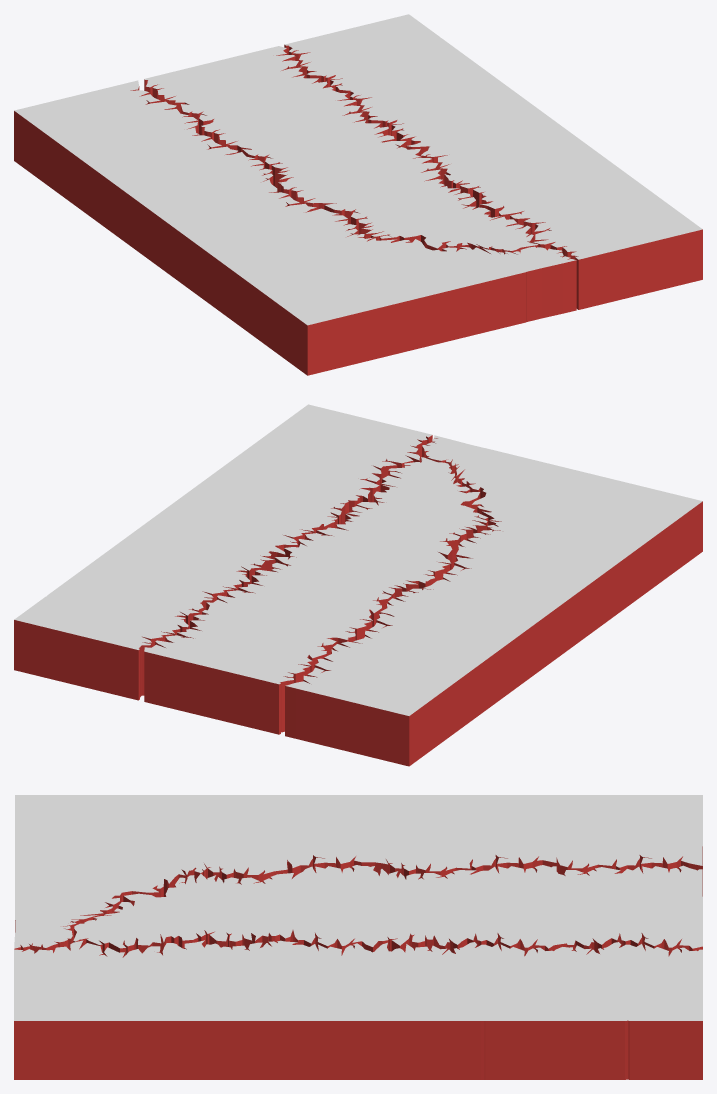
File: untitlesddssdd 4.fbx
3 renders of one model, top to bottom at view 1: azimuth 30°, elevation 25°; view 2: azimuth 150°, elevation 25°; view 3: azimuth 270°, elevation 25°, orthographic. The views are drawn at different scales.
Parts seen in each view (by area): view 1: Plane.009, Plane.010, Plane.008; view 2: Plane.009, Plane.010, Plane.008; view 3: Plane.010, Plane.009, Plane.008.
Part boxes in pixels (<box>): Plane.009: <box>14,80,525,375</box>; Plane.010: <box>284,14,702,309</box>; Plane.008: <box>144,46,576,322</box>; Plane.009: <box>285,448,702,766</box>; Plane.010: <box>14,404,432,700</box>; Plane.008: <box>144,435,488,734</box>; Plane.010: <box>14,940,702,1079</box>; Plane.009: <box>15,795,702,942</box>; Plane.008: <box>14,865,702,956</box>.
Size of the model in its own units: 8263 by 1006 by 10654.
